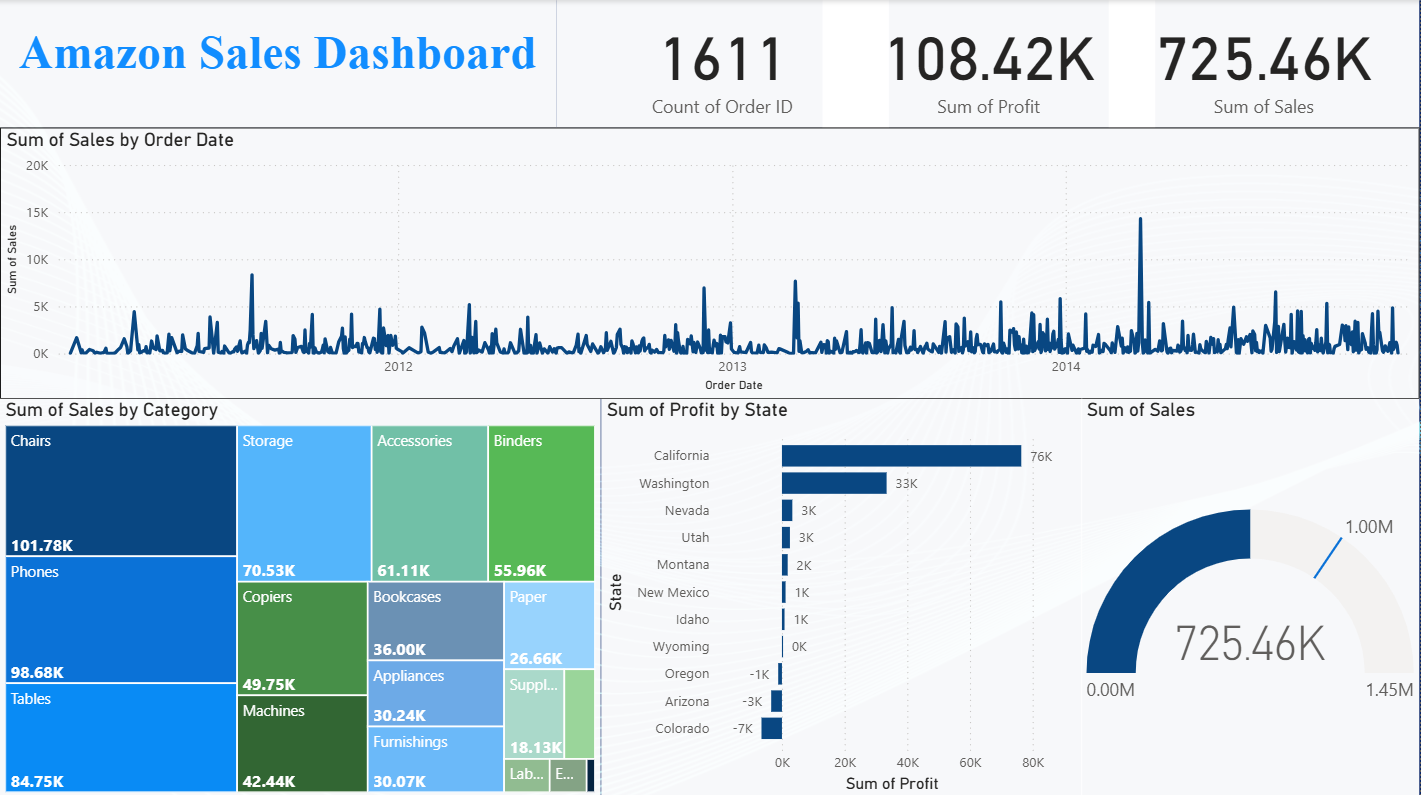

Layout of this report page (visuals, bound fields, positions):
{"tool":"powerbi","page":{"name":"Page 1","canvas":[1280,720],"ordinal":0},"visuals":[{"type":"card","fields":{"Values":["Sum(Walmart.Sales)"]},"box":[1000,0,280,115],"z":0},{"type":"card","fields":{"Values":["Sum(Walmart.Profit)"]},"box":[741.7,0,300,115],"z":1000},{"type":"card","fields":{"Values":["Count(Walmart.Order ID)"]},"box":[501.7,0,300,115],"z":2000},{"type":"textbox","box":[0,0,501.2,115],"z":3000},{"type":"lineChart","fields":{"Y":["Sum(Walmart.Sales)"],"Category":["Walmart.Order Date"]},"box":[0,115,1280,245],"z":4000},{"type":"treemap","fields":{"Group":["Walmart.Category"],"Values":["Sum(Walmart.Sales)"]},"box":[0,360,541.7,360],"z":5000},{"type":"barChart","fields":{"Category":["Walmart.State"],"Y":["Sum(Walmart.Profit)"]},"box":[541.7,360,433.3,360],"z":6000},{"type":"gauge","fields":{"Y":["Sum(Walmart.Sales)"]},"box":[975,360,305,360],"z":7000}]}

Visuals, with their boxes in screenshot pixels (x1, y1, x2, y2), scaled from the page's 1280x720 canvas onto the 1421x795 screenshot:
card - Sum(Walmart.Sales): <region>1110, 0, 1420, 127</region>
card - Sum(Walmart.Profit): <region>823, 0, 1156, 127</region>
card - Count(Walmart.Order ID): <region>557, 0, 890, 127</region>
textbox: <region>0, 0, 556, 127</region>
lineChart - Sum(Walmart.Sales) x Walmart.Order Date: <region>0, 127, 1420, 398</region>
treemap - Walmart.Category x Sum(Walmart.Sales): <region>0, 398, 601, 794</region>
barChart - Walmart.State x Sum(Walmart.Profit): <region>601, 398, 1082, 794</region>
gauge - Sum(Walmart.Sales): <region>1082, 398, 1420, 794</region>
